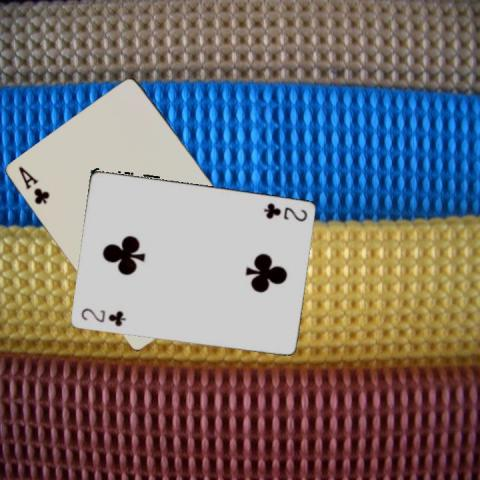2c: (77, 305, 127, 328), (260, 200, 308, 221)
Ac: (16, 163, 51, 206)
